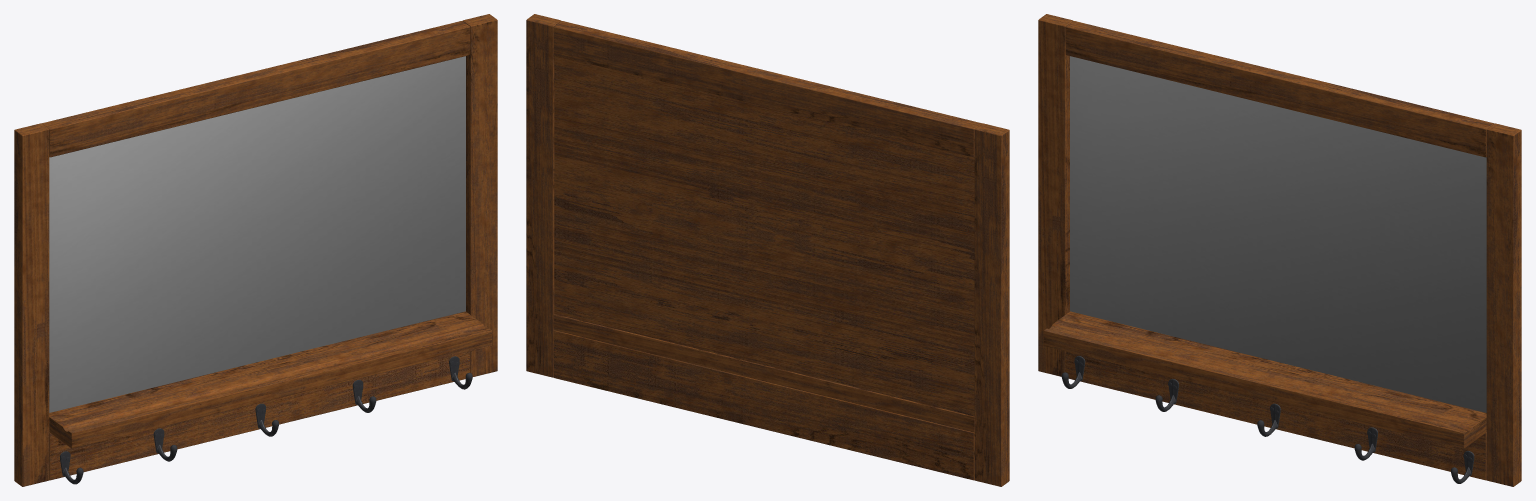
File: mirror_B07B8WZQMY.glb
3 renders of one model, left to right at view 1: azimuth 30°, elevation 25°; view 2: azimuth 150°, elevation 25°; view 3: azimuth 330°, elevation 25°, orthographic.
Visible parts, largest first — view 1: RootNode; view 2: RootNode; view 3: RootNode.
Boxes of the visible parts, <box> form: RootNode: <box>14,14,497,486</box>; RootNode: <box>526,14,1009,486</box>; RootNode: <box>1038,14,1521,486</box>.
Size of the model in its own units: 0.758 by 0.5366 by 0.0836.
Materials: 1 (1 with a texture image).
